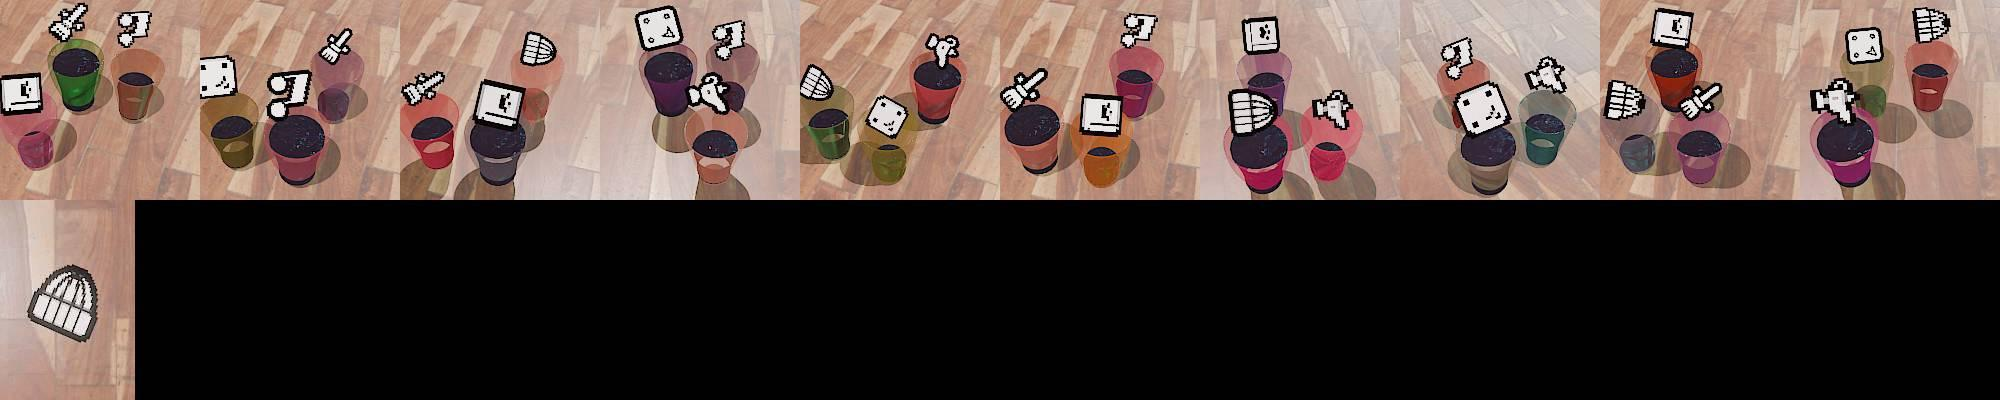icon: (22, 257, 105, 346), (1451, 80, 1513, 137), (472, 78, 527, 130), (1227, 89, 1280, 138), (265, 69, 312, 122), (634, 5, 682, 53), (999, 66, 1045, 113), (1809, 77, 1859, 120), (865, 93, 909, 139), (685, 72, 732, 115), (1079, 92, 1124, 136), (1604, 78, 1648, 121), (0, 72, 43, 115), (198, 54, 239, 99), (1523, 55, 1568, 95), (1651, 8, 1693, 50), (1678, 81, 1722, 121), (1312, 89, 1354, 130), (400, 70, 446, 106), (49, 2, 89, 42), (711, 19, 747, 62), (1242, 16, 1281, 55), (1440, 36, 1474, 80), (1845, 27, 1884, 65), (520, 29, 558, 66), (116, 10, 153, 48), (1912, 7, 1951, 43), (1122, 13, 1159, 49), (799, 63, 834, 101), (319, 26, 354, 64), (924, 32, 961, 67)
